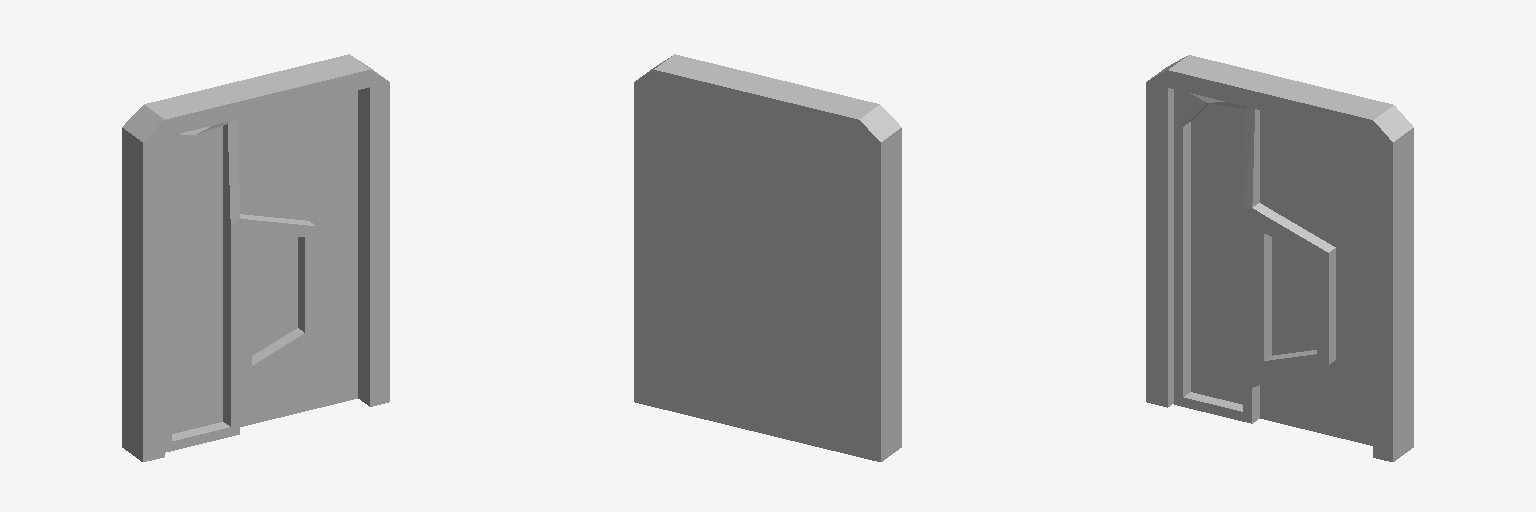
Rendered from EngineRoom_AntiRadDoor 1.obj.
3 renders of one model, left to right at view 1: azimuth 30°, elevation 25°; view 2: azimuth 150°, elevation 25°; view 3: azimuth 330°, elevation 25°, orthographic.
Parts seen in each view (by area): view 1: polySurface4, textureEditorIsolateSelectSet polySurface4; view 2: polySurface4; view 3: polySurface4, textureEditorIsolateSelectSet polySurface4.
Boxes of the visible parts, box(x1,y1,x2,y2) form: polySurface4: box(122, 54, 389, 461); textureEditorIsolateSelectSet polySurface4: box(165, 120, 316, 452); polySurface4: box(634, 54, 901, 461); polySurface4: box(1146, 55, 1413, 461); textureEditorIsolateSelectSet polySurface4: box(1174, 89, 1328, 423).
Bounding box in the file's own units: 7.9 × 10.31 × 1.16.